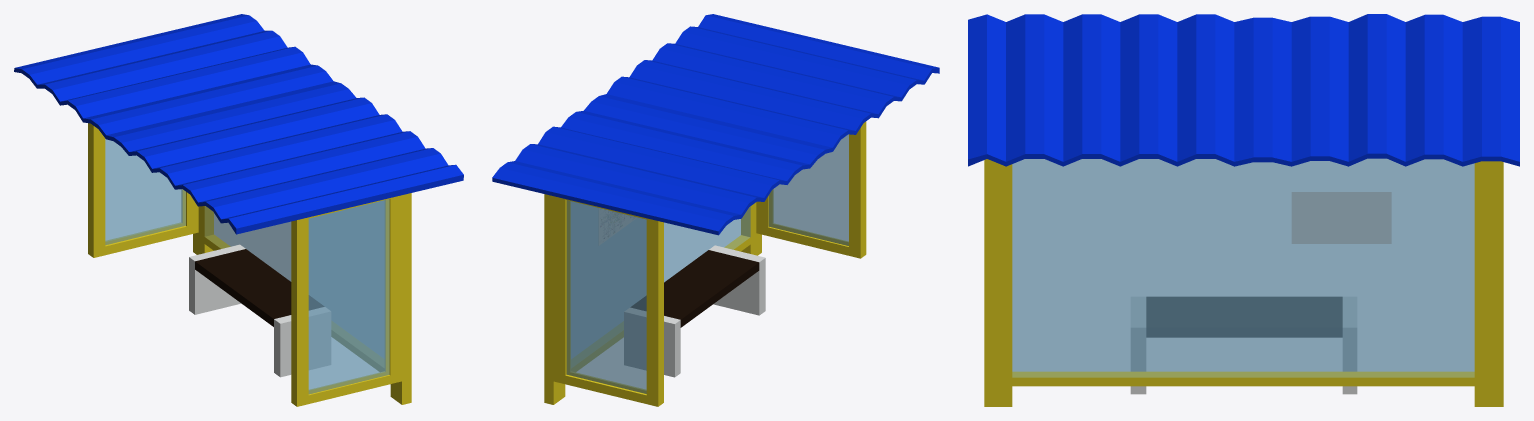
File: bus_stop_19_05.fbx
3 views of the same model, side by side, from view 1: azimuth 30°, elevation 25°; view 2: azimuth 150°, elevation 25°; view 3: azimuth 270°, elevation 25° (orthographic). The views are drawn at different scales.
Parts seen in each view (by area): view 1: dach, konstrukcja, laweczka; view 2: dach, konstrukcja, laweczka, ogloszenie_rozklad_jazdy; view 3: konstrukcja, dach, laweczka, ogloszenie_rozklad_jazdy.
Part boxes in pixels (box(x1,y1,x2,y2)): dach: box(14, 14, 463, 234); konstrukcja: box(88, 123, 411, 406); laweczka: box(189, 244, 330, 377); dach: box(492, 14, 939, 235); konstrukcja: box(544, 121, 866, 406); laweczka: box(624, 245, 765, 377); ogloszenie_rozklad_jazdy: box(599, 208, 636, 245); konstrukcja: box(984, 158, 1503, 406); dach: box(968, 14, 1519, 166); laweczka: box(1130, 297, 1357, 394); ogloszenie_rozklad_jazdy: box(1291, 192, 1391, 243).
Bounding box in the file's own units: 285 × 273 × 482.
